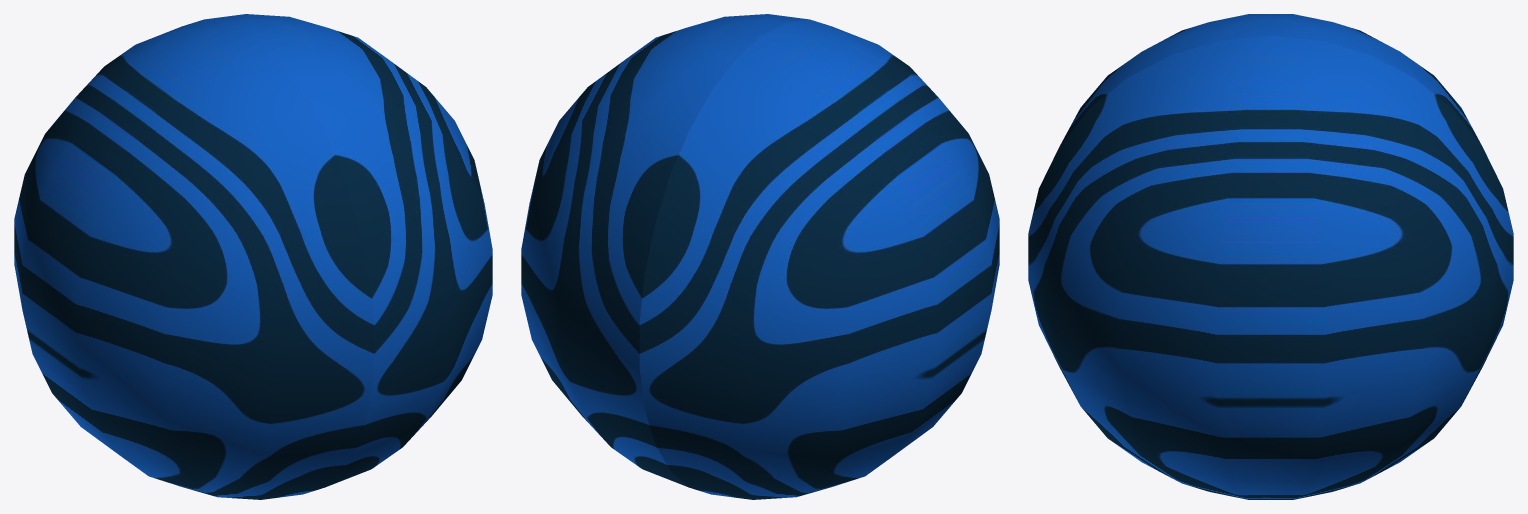
The model's file is spheres-c6440cb9.glb.
3 renders of one model, left to right at view 1: azimuth 30°, elevation 25°; view 2: azimuth 150°, elevation 25°; view 3: azimuth 270°, elevation 25°, orthographic.
Parts seen in each view (by area): view 1: Sphere; view 2: Sphere; view 3: Sphere.
Part boxes in pixels (box(x1,y1,x2,y2)): Sphere: box(14, 14, 492, 499); Sphere: box(521, 14, 999, 499); Sphere: box(1028, 14, 1513, 499).
Bounding box in the file's own units: 1.94 × 2 × 1.99.
1 material, 1 textured.
